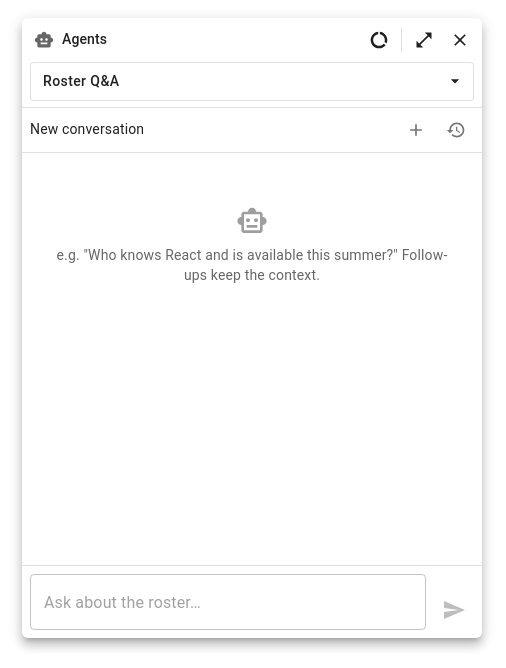
Test case: the history drawer › warns about an expiry inside 14 days, and about nothing further out
Click the button named "Conversation history" at x=456, y=130, box [438, 112, 474, 148]
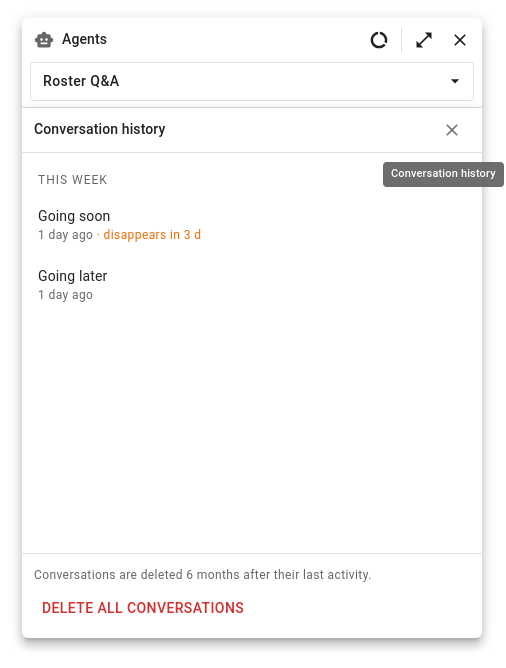
Expected: the text "· disappears in 3 d" is shown once, [93, 228, 201, 242]
